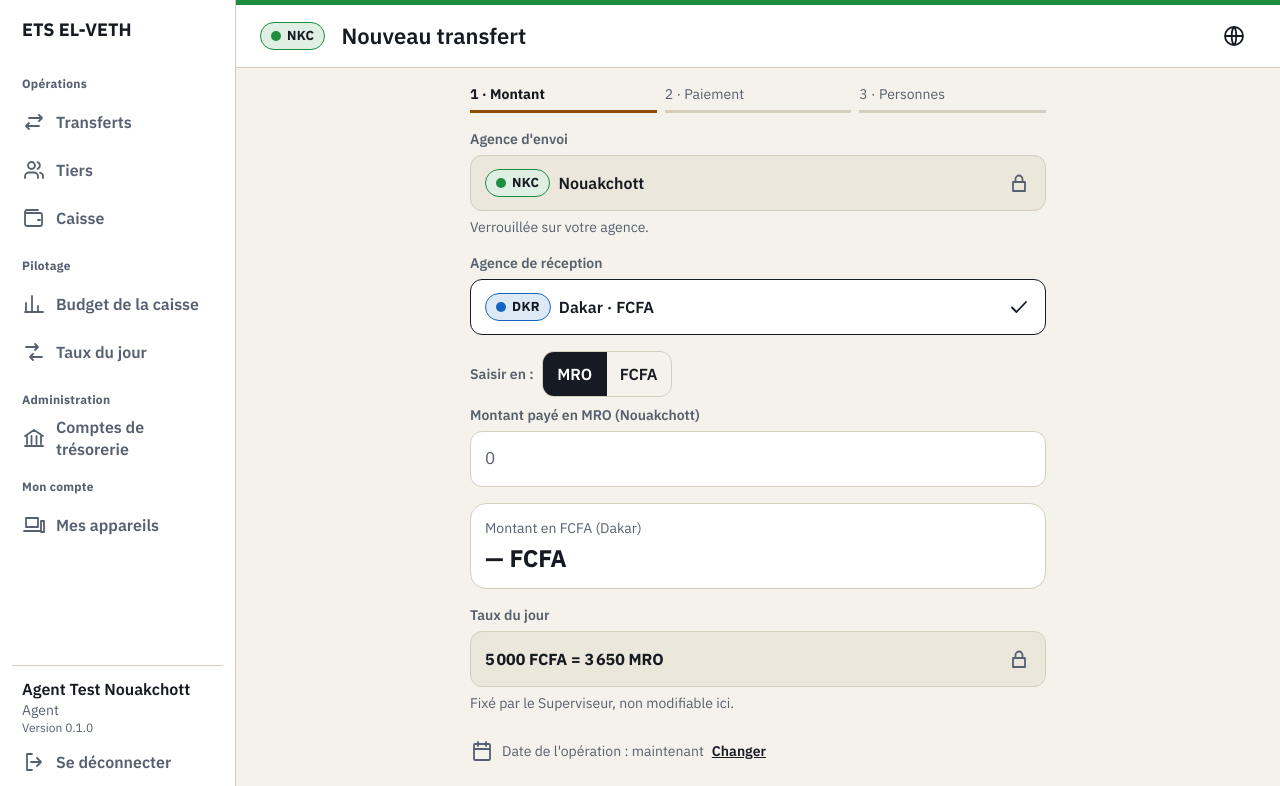
Test: Création d’un transfert — crédit › prévient quand le crédit dépasserait le plafond du tiers
Step 1. Type "912500" into the field labelled "Montant payé en MRO (Nouakchott)" → (758, 459), box [471,433,1045,485]
(page scrolled)
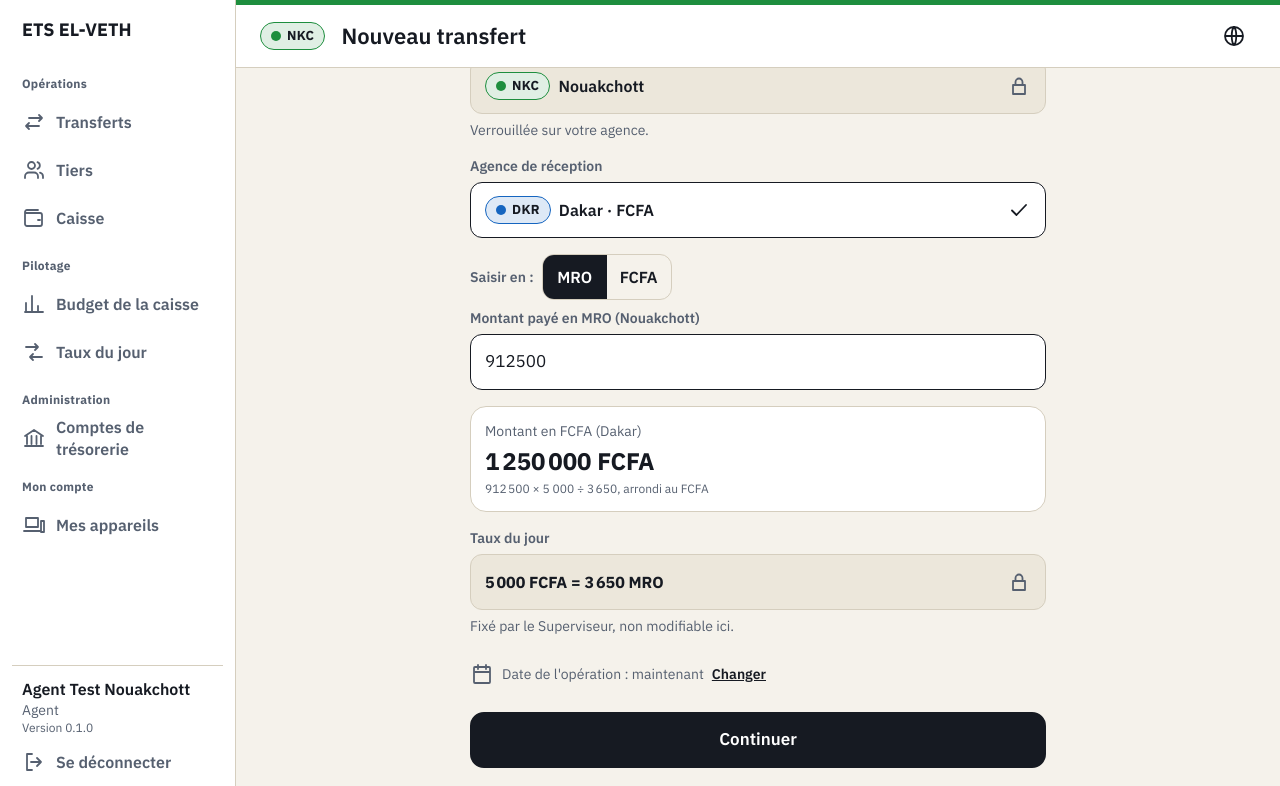
Result: the text "1 250 000 FCFA" is shown at [485,445,654,477]
Step 2. Click the button "Continuer" → (758, 740), box [470,712,1046,768]
(page scrolled)
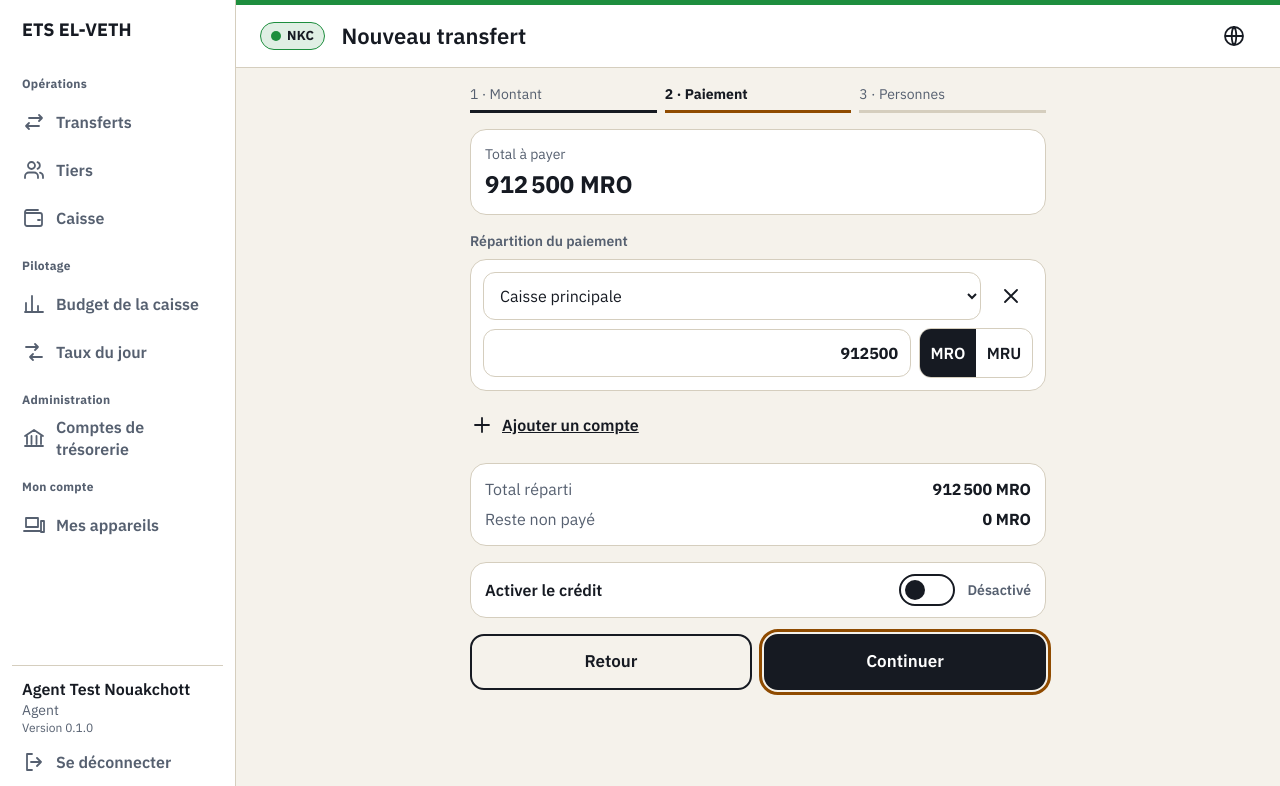
Step 3. Replace the text in the field named "Montant de la ligne 1" with "800000" → (697, 353), box [483,329,911,377]
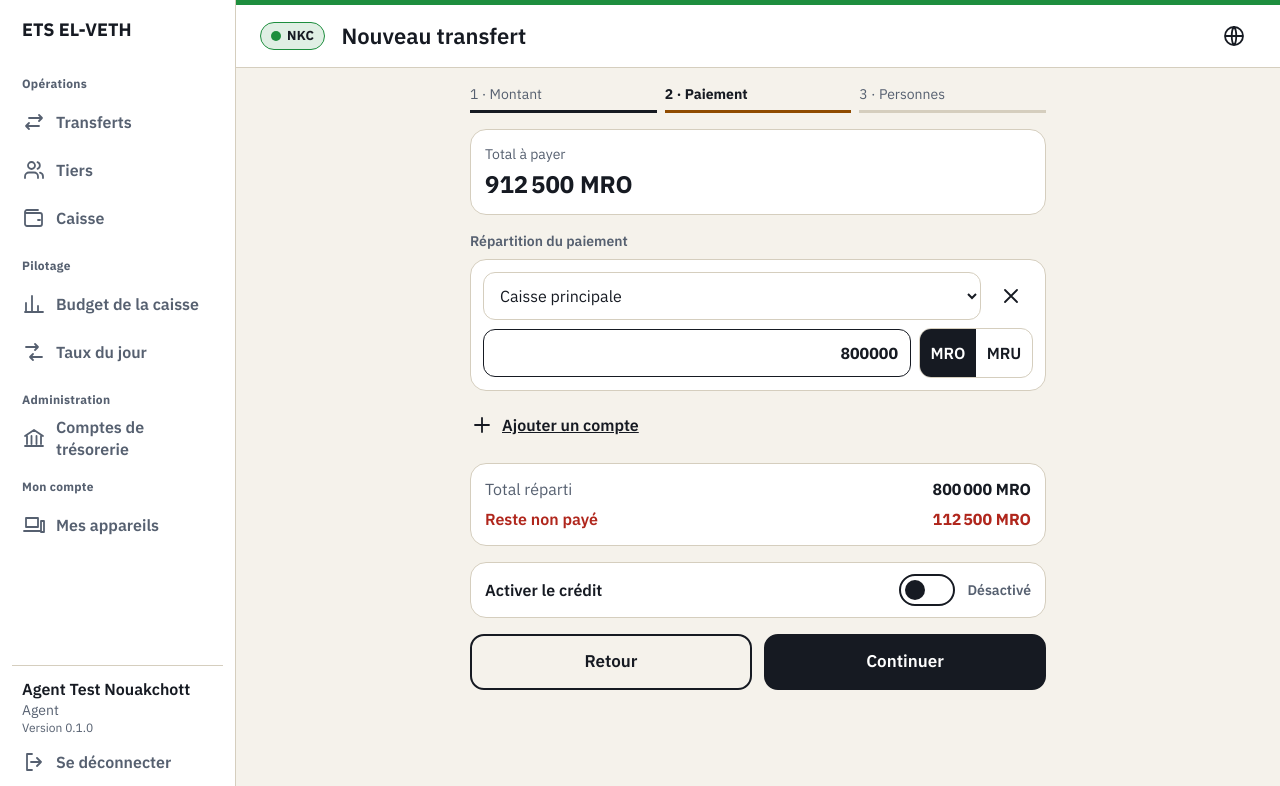
Step 4. Click the switch named "Activer le crédit" → (927, 590), box [899,574,955,606]
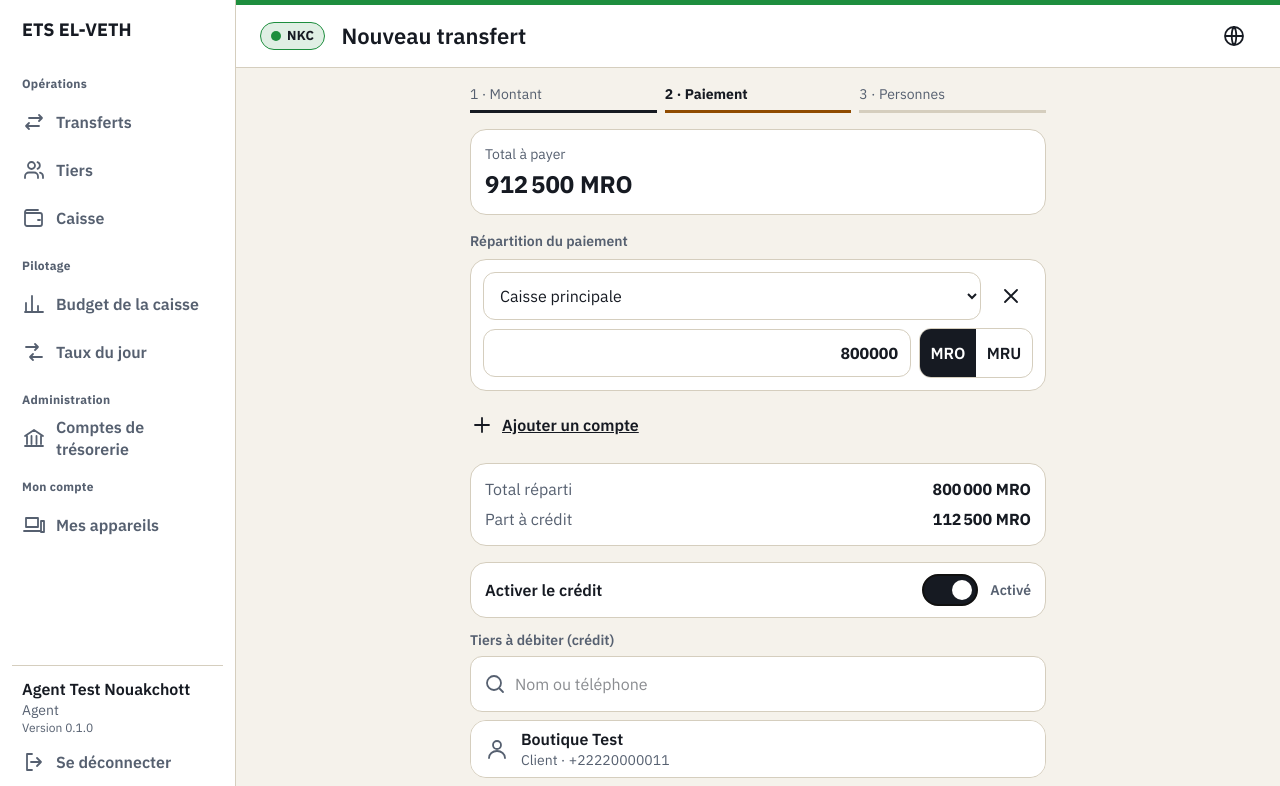
Step 5. Type "Bout" into the search field → (774, 684), box [515,658,1033,710]
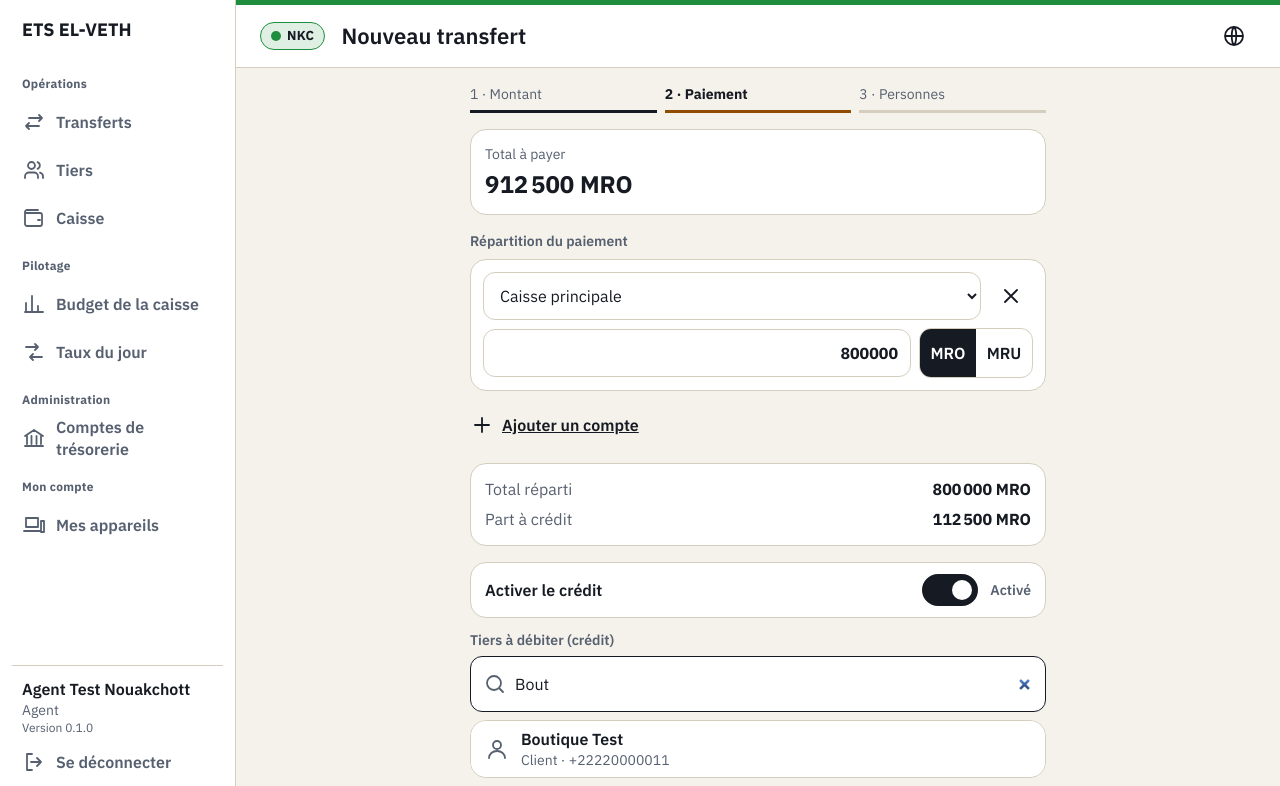
Step 6. Click the button "Boutique Test Client · +22220000011" → (572, 739), box [471,721,1045,777]
(page scrolled)
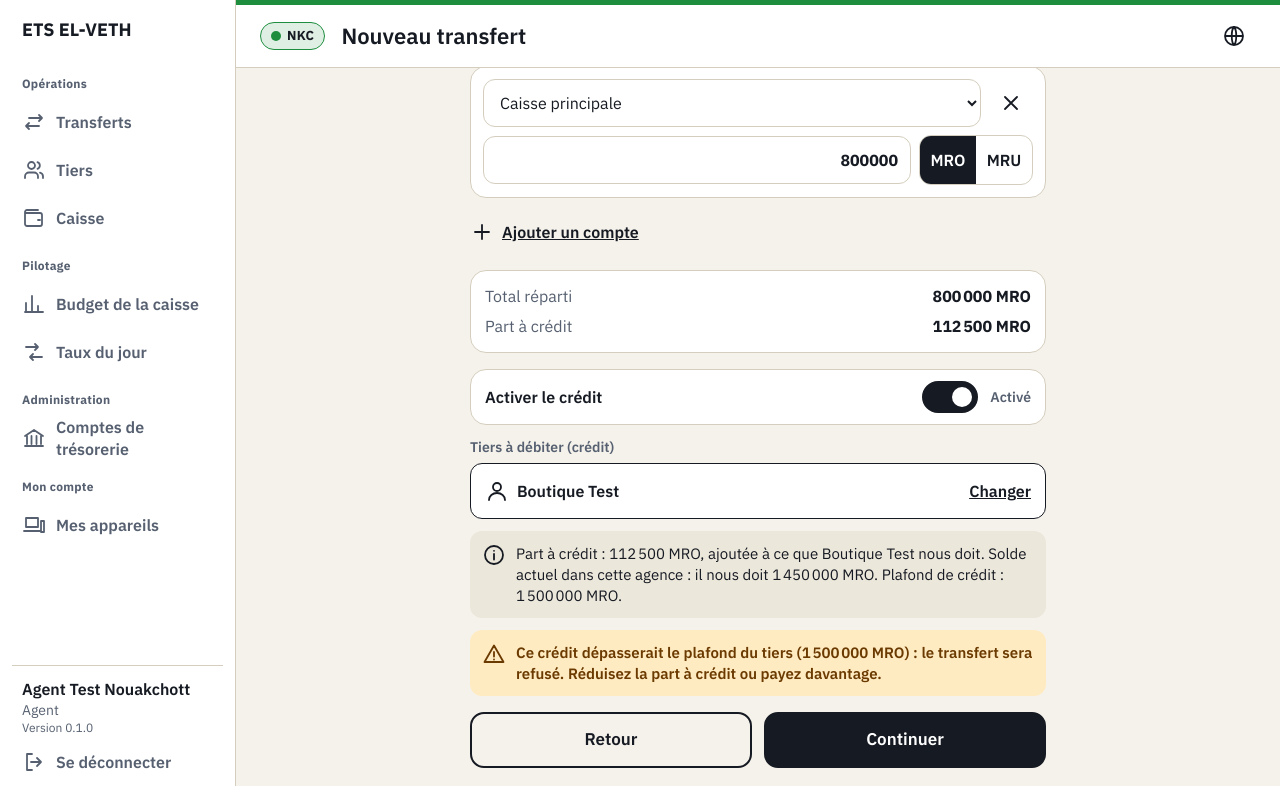
Result: the text "Ce crédit dépasserait le plafond du tiers (1 500 000 MRO)" is shown at [516,643,1032,683]
